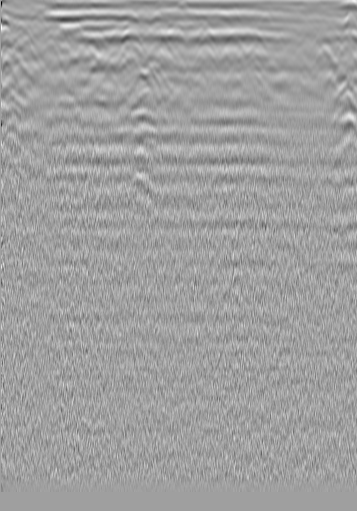가스: (121, 172, 154, 196)
상수: (315, 36, 335, 56)
오수: (34, 32, 54, 52)
우수: (168, 25, 188, 45)
